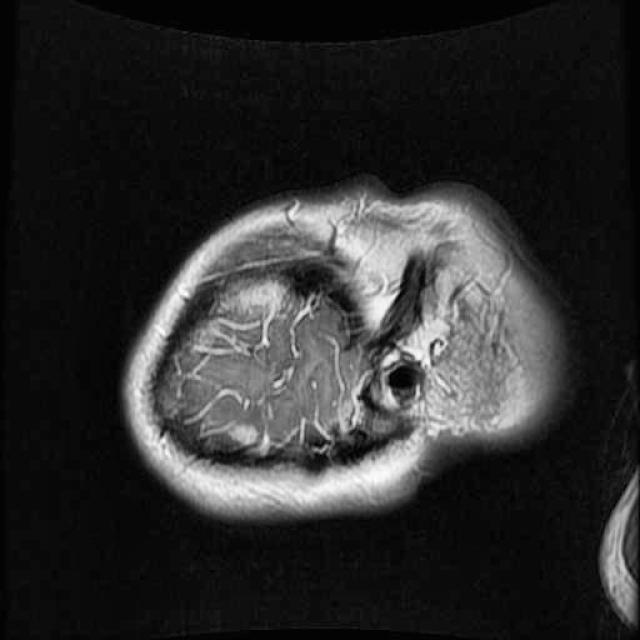Tumor: (217, 410, 269, 460)
